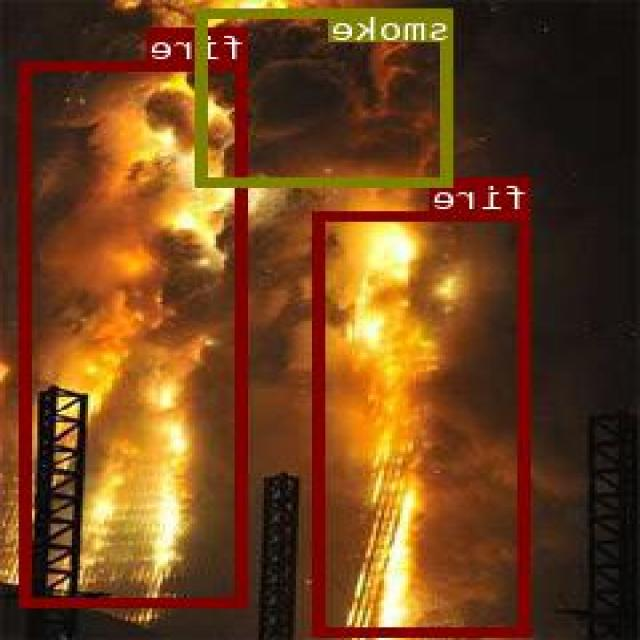fire: (23, 59, 249, 606), (317, 211, 532, 634)
smoke: (198, 8, 454, 184)
